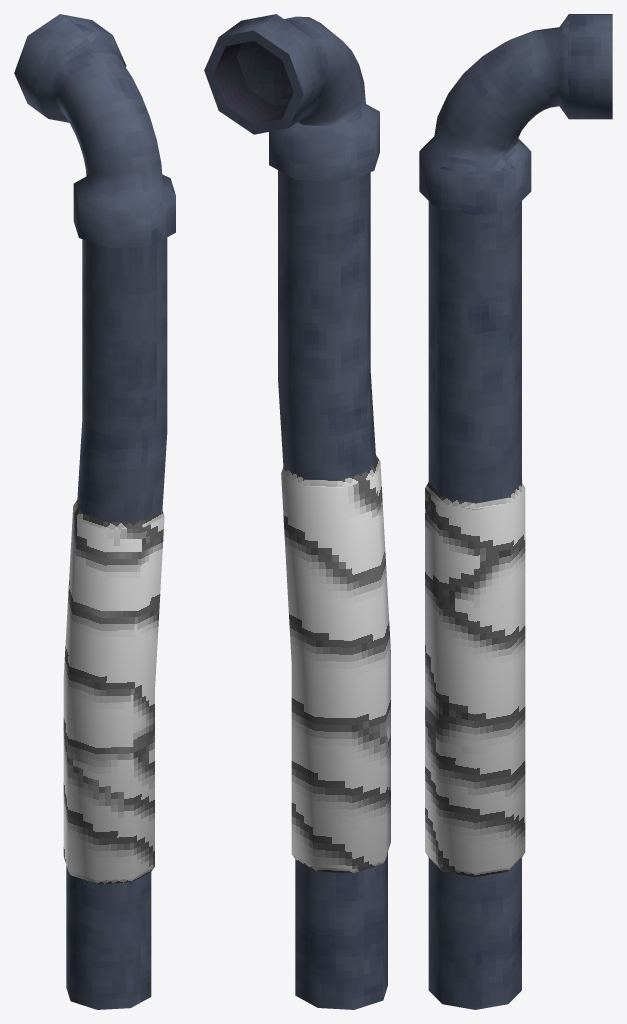
File: weapon_pipe.glb
The picture shows the model from 3 angles, left to right: view 1: azimuth 30°, elevation 25°; view 2: azimuth 150°, elevation 25°; view 3: azimuth 270°, elevation 25°; orthographic projection. The views are drawn at different scales.
Visible parts, largest first — view 1: pipe; view 2: pipe; view 3: pipe.
Part boxes in pixels (<box>): pipe: <box>14,14,175,1009</box>; pipe: <box>204,14,390,1009</box>; pipe: <box>419,14,612,1009</box>.
Bounding box in the file's own units: 0.1338 × 1.16 × 0.207.
2 materials, 2 textured.
